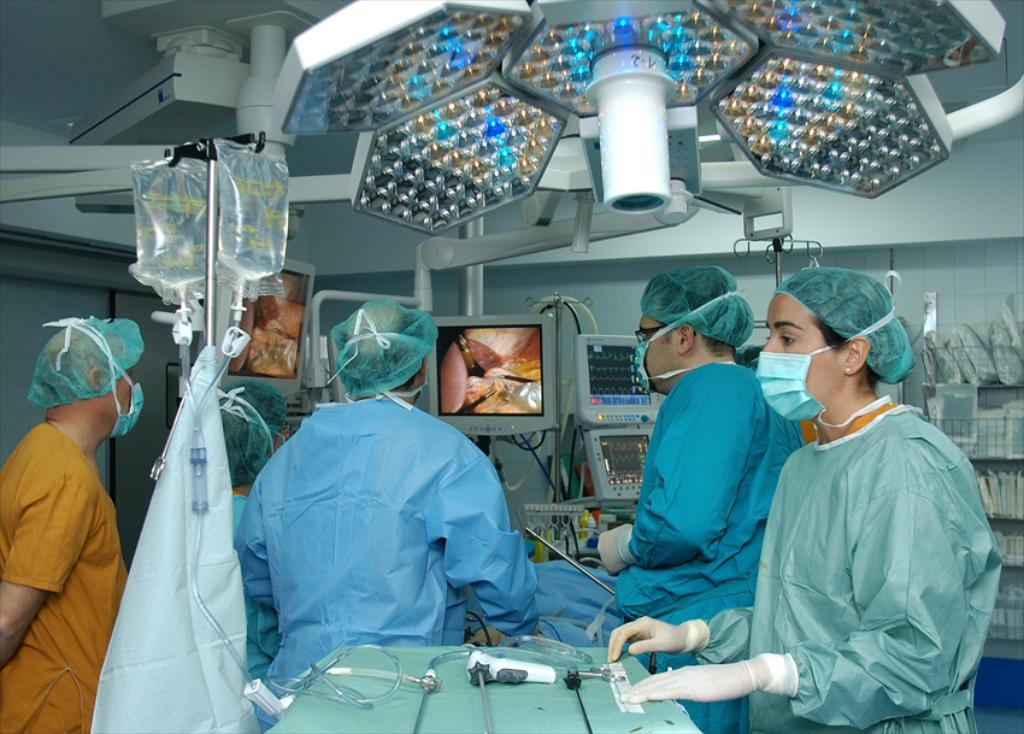Person: (0, 265, 1003, 733)
